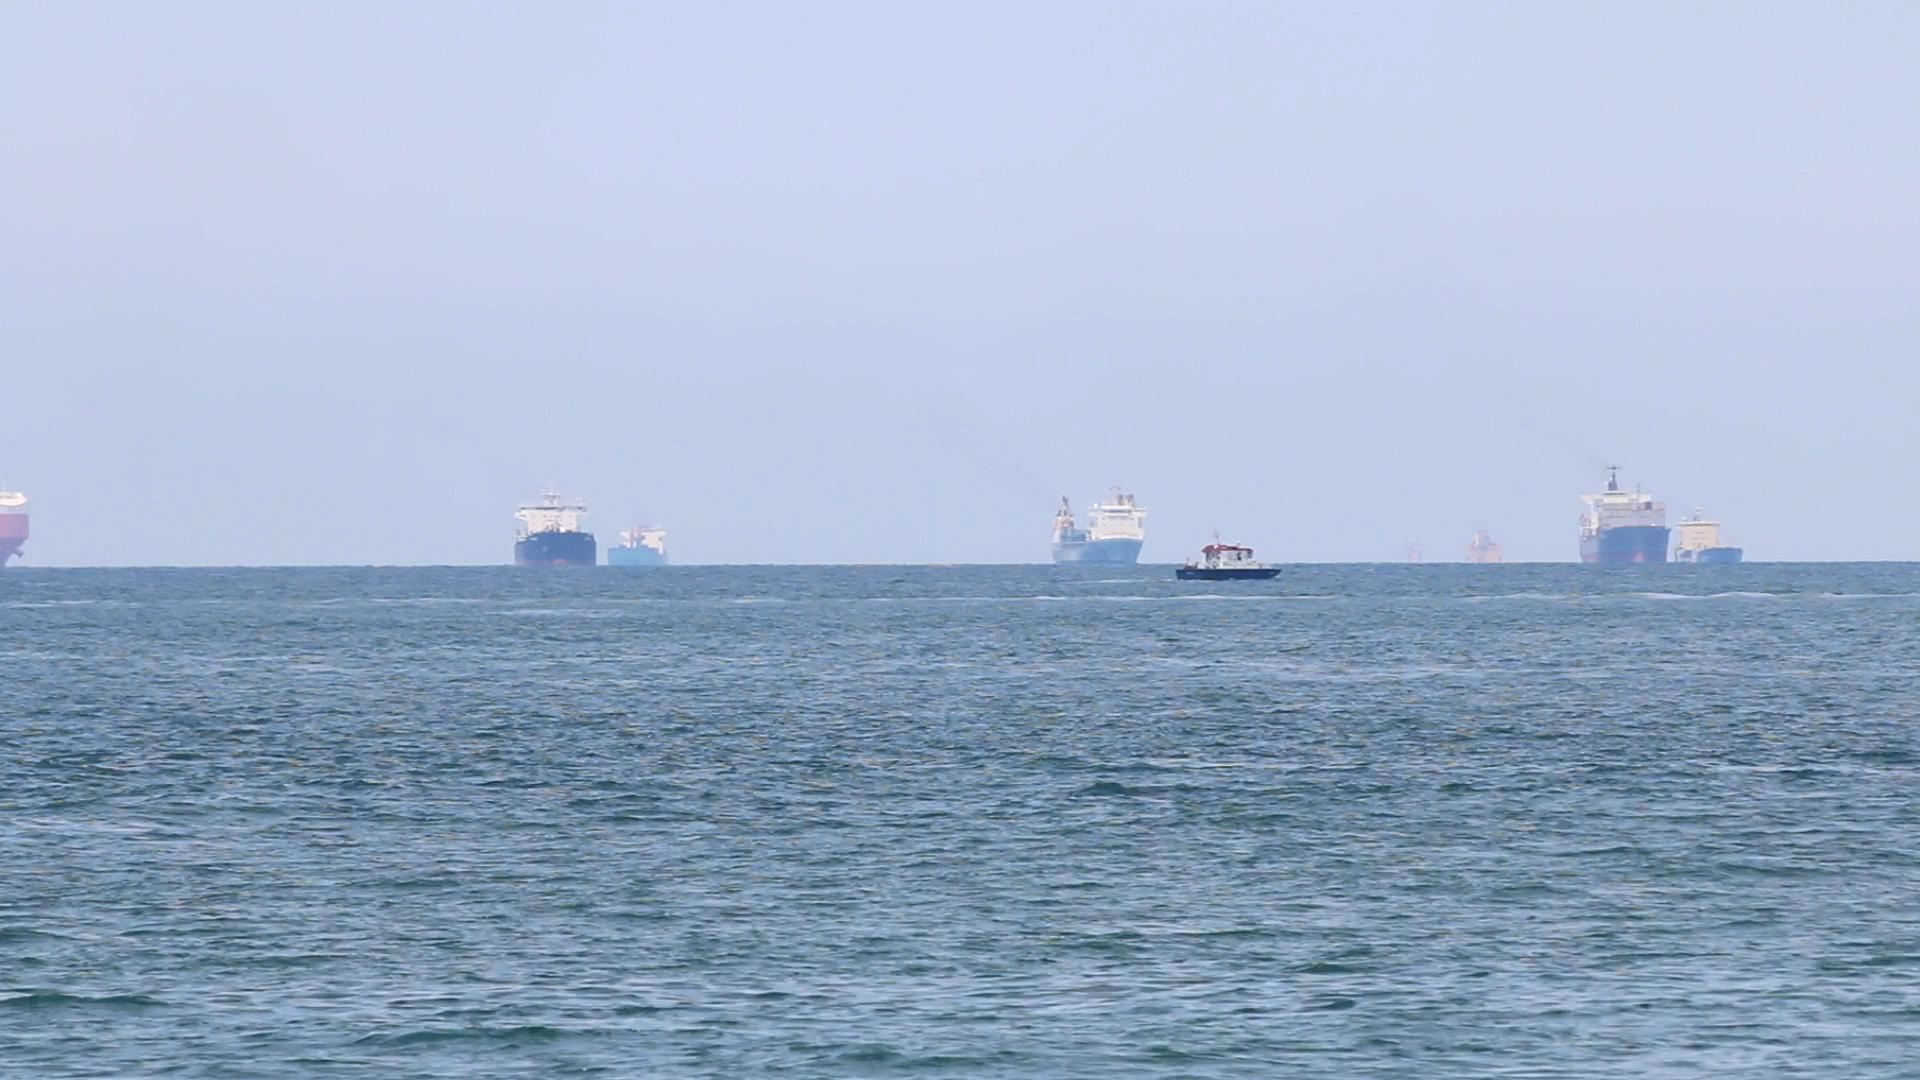Container Ship: (1571, 460, 1673, 572), (1035, 484, 1151, 580), (508, 479, 597, 580), (1171, 529, 1283, 587), (1675, 509, 1751, 578), (608, 516, 680, 580), (1461, 524, 1513, 571)
